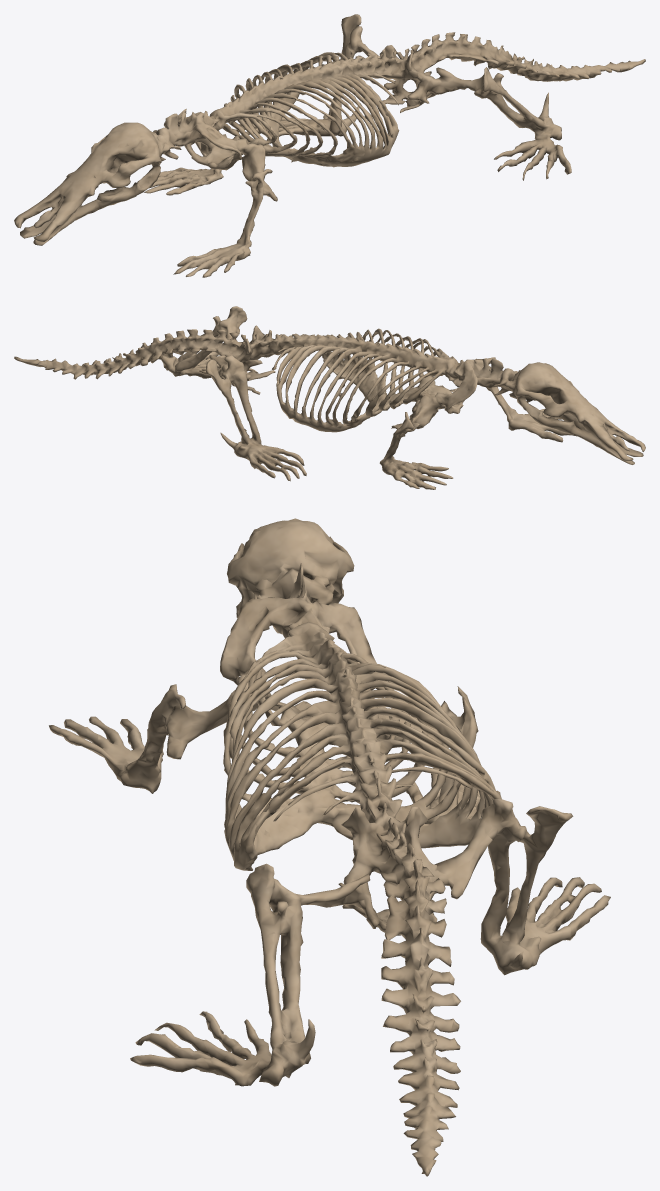
The model's file is skeleton-v10-baked.glb.
3 renders of one model, top to bottom at view 1: azimuth 30°, elevation 25°; view 2: azimuth 150°, elevation 25°; view 3: azimuth 270°, elevation 25°, orthographic. The views are drawn at different scales.
Parts seen in each view (by area): view 1: Ornithorynque_LOD0_StaticEvaluated; view 2: Ornithorynque_LOD0_StaticEvaluated; view 3: Ornithorynque_LOD0_StaticEvaluated.
Part boxes in pixels (x1,y1,x2,y2): Ornithorynque_LOD0_StaticEvaluated: (14, 14, 645, 277); Ornithorynque_LOD0_StaticEvaluated: (14, 306, 645, 489); Ornithorynque_LOD0_StaticEvaluated: (49, 518, 610, 1176).
Bounding box in the file's own units: 2.45 × 0.4271 × 1.01.
Materials: 1 (1 with a texture image).
